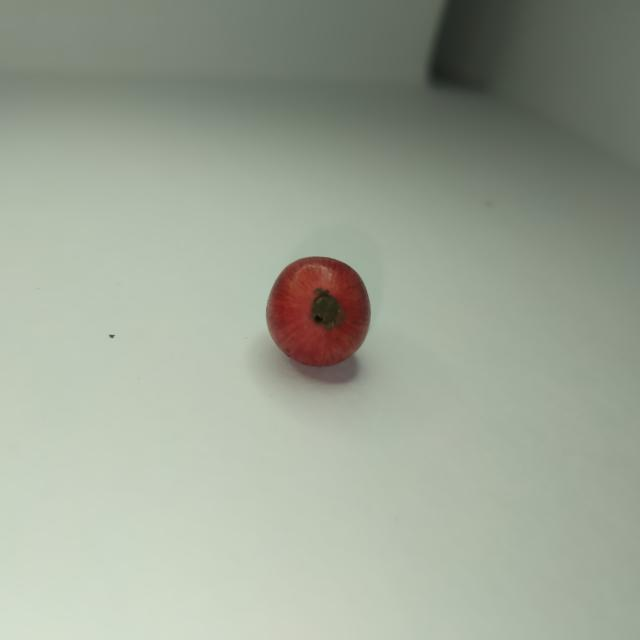Infectado: (266, 256, 370, 369)
